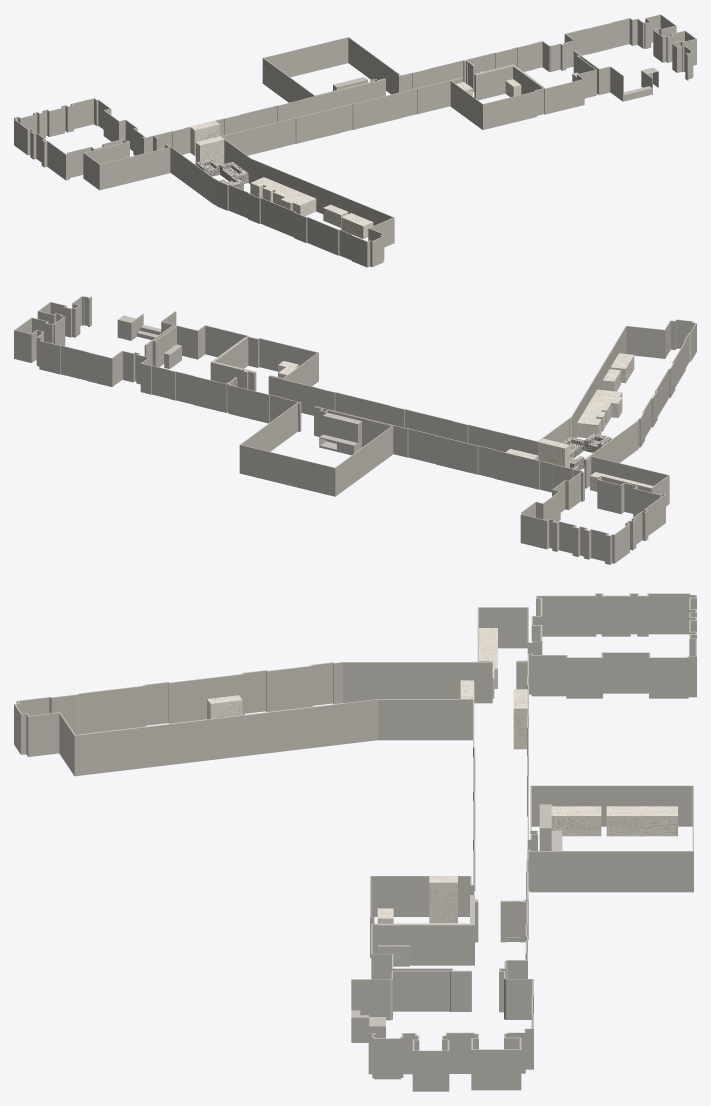
The model's file is roblab_new_0.dae.
3 views of the same model, one above another, from view 1: azimuth 30°, elevation 25°; view 2: azimuth 150°, elevation 25°; view 3: azimuth 270°, elevation 25° (orthographic). The views are drawn at different scales.
Visible parts, largest first — view 1: map_3.dxf (×6); view 2: map_3.dxf (×6); view 3: map_3.dxf (×7).
Boxes of the visible parts, x1,y1,x2,y2 form: map_3.dxf (×6): (14, 14, 696, 267); map_3.dxf (×6): (14, 296, 696, 564); map_3.dxf (×7): (14, 593, 696, 1091).
Bounding box in the file's own units: 1526 × 962 × 63.78.
